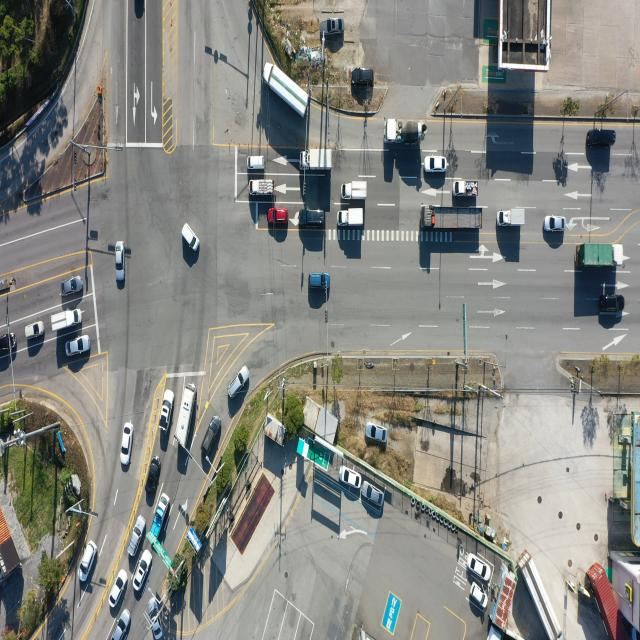car: (77, 541, 97, 584), (128, 513, 147, 557), (203, 416, 223, 456), (229, 364, 251, 400), (134, 548, 152, 590), (109, 569, 128, 607), (145, 458, 161, 503), (160, 390, 175, 435), (112, 611, 134, 640), (587, 128, 616, 150), (319, 16, 345, 40), (470, 555, 493, 582), (298, 208, 326, 229), (65, 336, 90, 358), (362, 484, 384, 509), (120, 423, 132, 468), (469, 582, 488, 610), (340, 465, 362, 488), (180, 226, 198, 254), (601, 294, 626, 313), (62, 276, 84, 297), (350, 67, 374, 86), (424, 156, 447, 174), (26, 320, 46, 340), (364, 424, 386, 442), (115, 241, 124, 282), (0, 334, 16, 357), (308, 274, 330, 290), (268, 207, 288, 224), (545, 216, 566, 232), (250, 154, 268, 168)
medium_truck: (522, 550, 564, 638), (262, 62, 310, 114), (423, 208, 481, 230), (575, 244, 623, 270), (387, 120, 428, 146), (304, 148, 336, 171)
small_bus: (178, 384, 200, 448)
small_truck: (150, 494, 170, 542), (51, 308, 83, 332), (497, 208, 525, 228), (339, 209, 366, 228), (341, 184, 368, 203), (249, 178, 274, 196), (453, 179, 478, 197)
